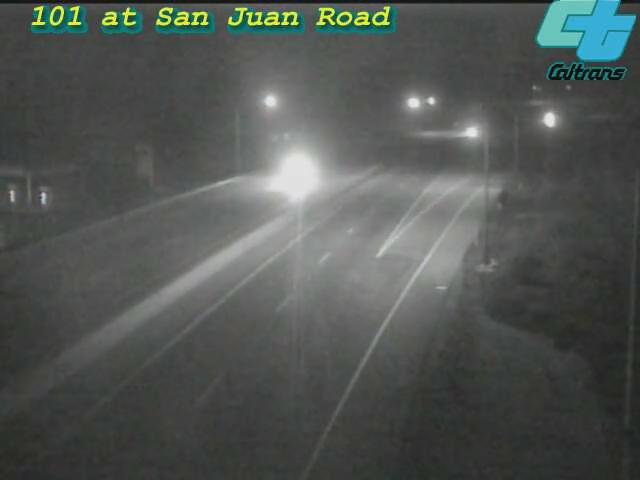vehicle: (257, 133, 337, 213), (445, 108, 495, 158), (524, 95, 574, 145)
